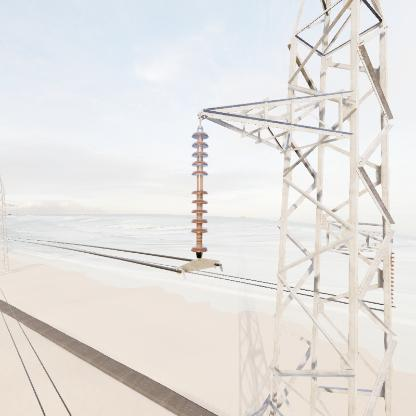insulator: (186, 127, 212, 253)
